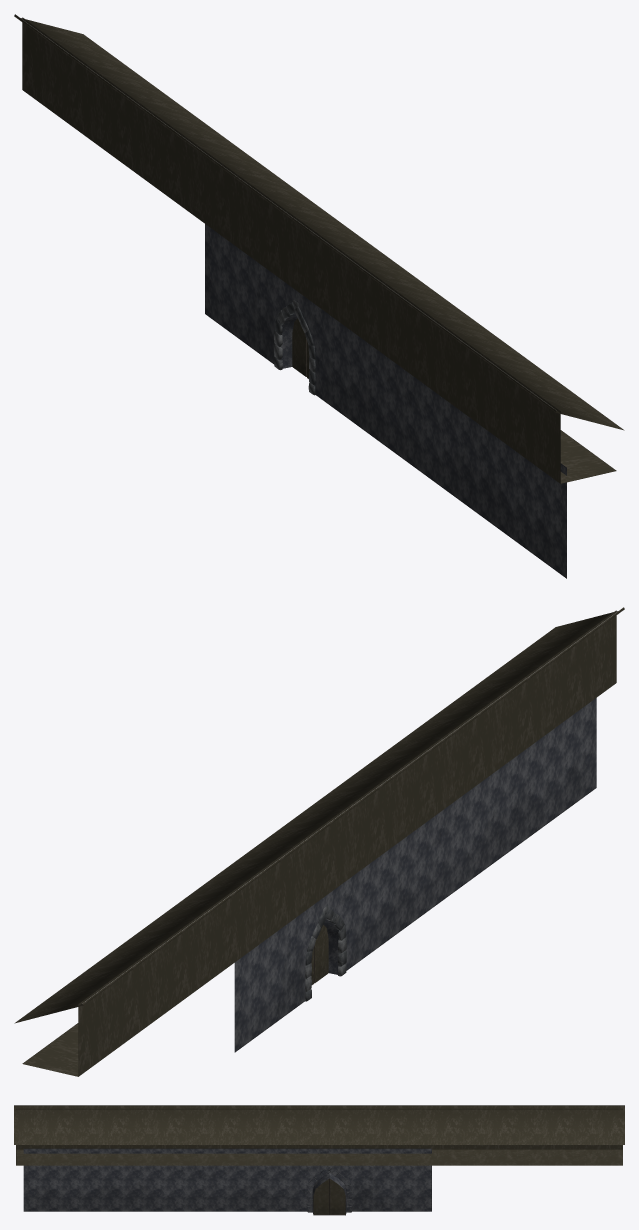
The model's file is Level02_Wall.glb.
3 views of the same model, one above another, from view 1: azimuth 30°, elevation 25°; view 2: azimuth 150°, elevation 25°; view 3: azimuth 270°, elevation 25° (orthographic). The views are drawn at different scales.
Parts seen in each view (by area): view 1: Level02_Wall; view 2: Level02_Wall; view 3: Level02_Wall.
Part boxes in pixels (<box>): Level02_Wall: <box>14,14,624,578</box>; Level02_Wall: <box>14,607,624,1076</box>; Level02_Wall: <box>14,1105,624,1215</box>.
Bounding box in the file's own units: 6.12 × 15.17 × 82.77.
1 material, 1 textured.
